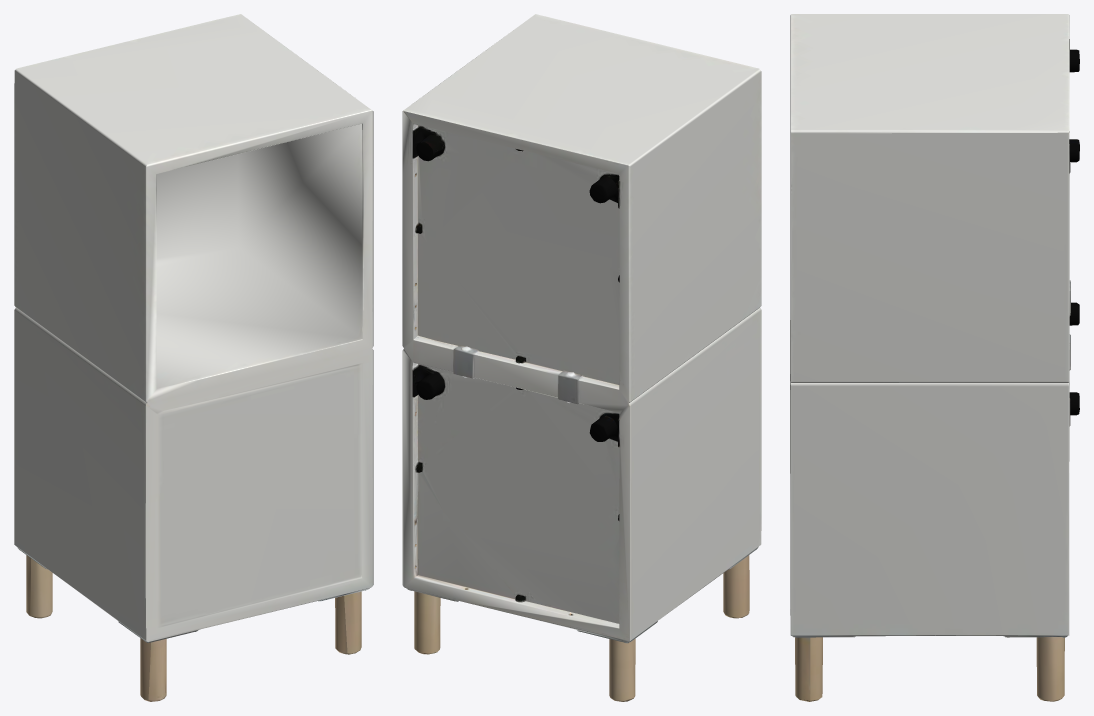
The model's file is eket_kombinacja_szafek_z_nozkami_79386075.glb.
3 renders of one model, left to right at view 1: azimuth 30°, elevation 25°; view 2: azimuth 150°, elevation 25°; view 3: azimuth 270°, elevation 25°, orthographic. The views are drawn at different scales.
Visible parts, largest first — view 1: eket_kombinacja_szafek_z_nozkami_79386075; view 2: eket_kombinacja_szafek_z_nozkami_79386075; view 3: eket_kombinacja_szafek_z_nozkami_79386075.
Part boxes in pixels (x1,y1,x2,y2): eket_kombinacja_szafek_z_nozkami_79386075: [14, 14, 373, 701]; eket_kombinacja_szafek_z_nozkami_79386075: [402, 14, 761, 701]; eket_kombinacja_szafek_z_nozkami_79386075: [790, 14, 1079, 701].
Size of the model in its own units: 0.3505 by 0.7969 by 0.3633.
Materials: 1 (1 with a texture image).
